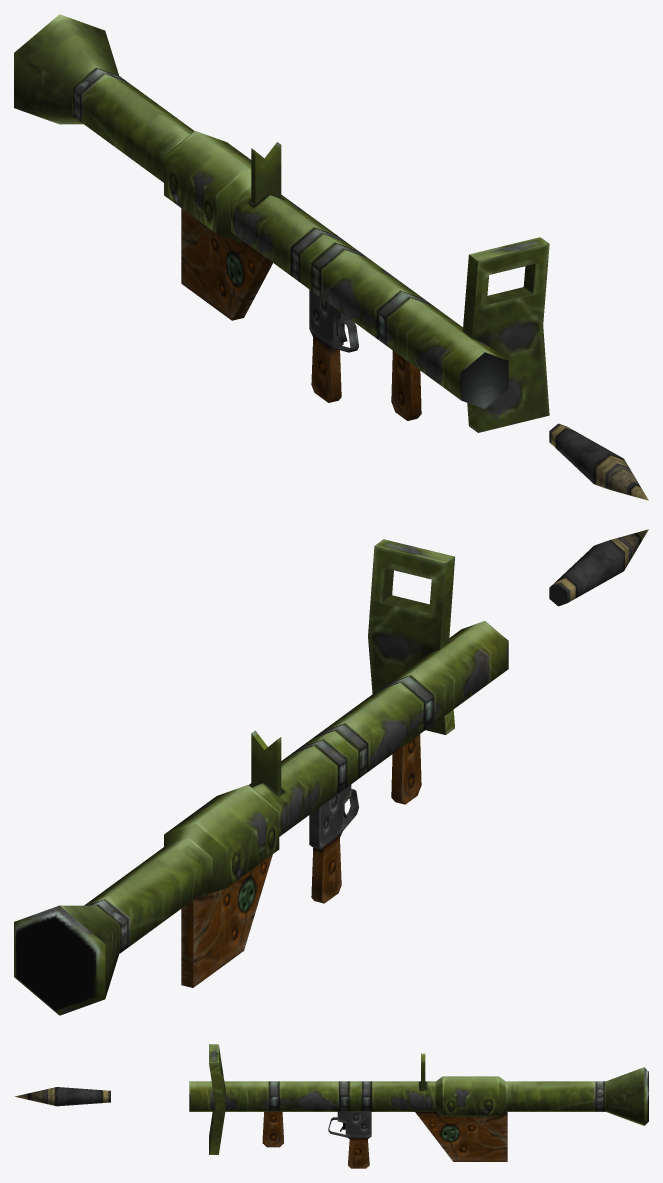
File: Bazooka.FBX
3 views of the same model, one above another, from view 1: azimuth 30°, elevation 25°; view 2: azimuth 150°, elevation 25°; view 3: azimuth 270°, elevation 25° (orthographic). The views are drawn at different scales.
Parts seen in each view (by area): view 1: Bazooka, Bazooka_rocket; view 2: Bazooka, Bazooka_rocket; view 3: Bazooka, Bazooka_rocket.
Part boxes in pixels (<box>): Bazooka: <box>14,14,549,432</box>; Bazooka_rocket: <box>549,423,648,500</box>; Bazooka: <box>14,539,508,1015</box>; Bazooka_rocket: <box>549,529,648,606</box>; Bazooka: <box>189,1044,648,1168</box>; Bazooka_rocket: <box>14,1087,110,1106</box>.
Bounding box in the file's own units: 0.1943 × 0.3395 × 1.55.
